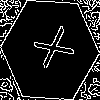X: (25, 25, 75, 75)
